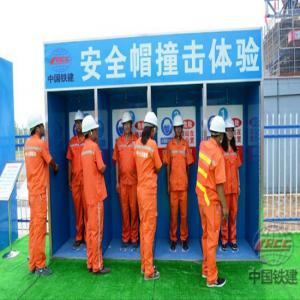white: (28, 112, 47, 140), (144, 112, 160, 141), (82, 115, 99, 141), (211, 116, 225, 146), (173, 114, 186, 139), (122, 111, 134, 137), (75, 110, 86, 134), (226, 119, 236, 142)
